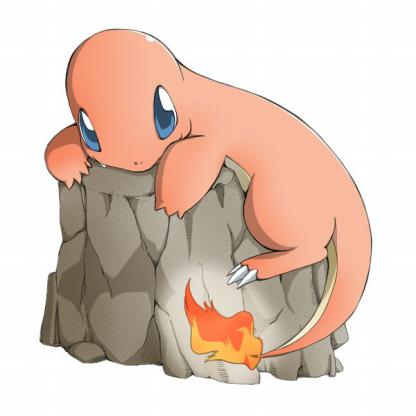Charmander: (37, 25, 402, 360)
